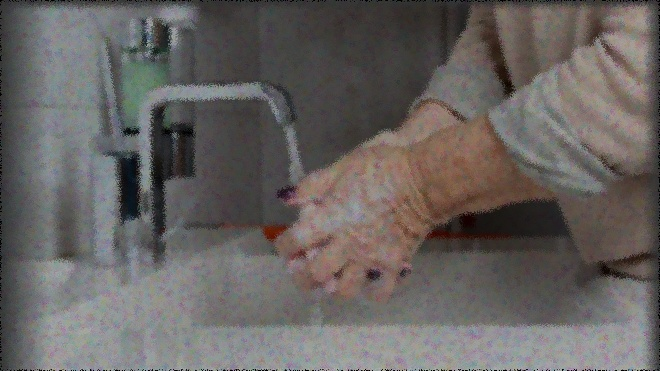washing hand: (202, 57, 430, 317)
